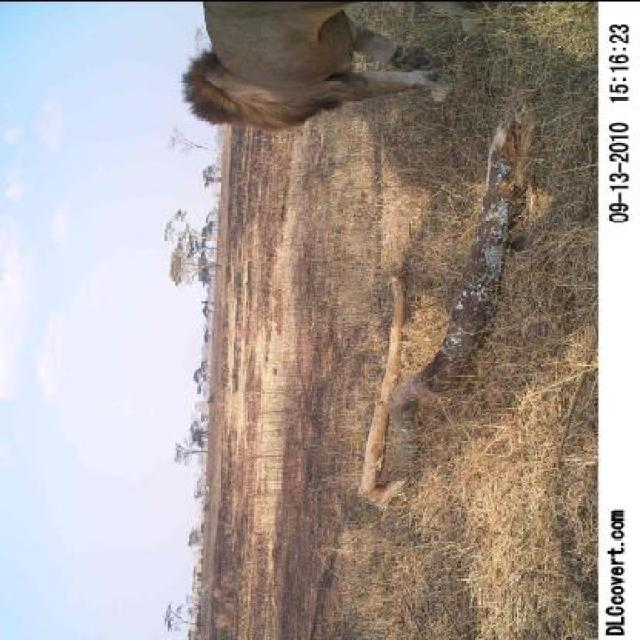Lion: (160, 2, 472, 146)
